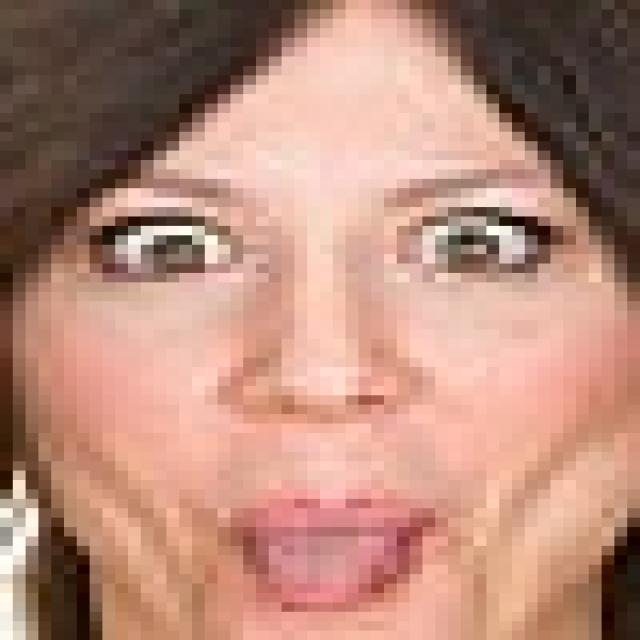Anxiety: (9, 2, 627, 631)
